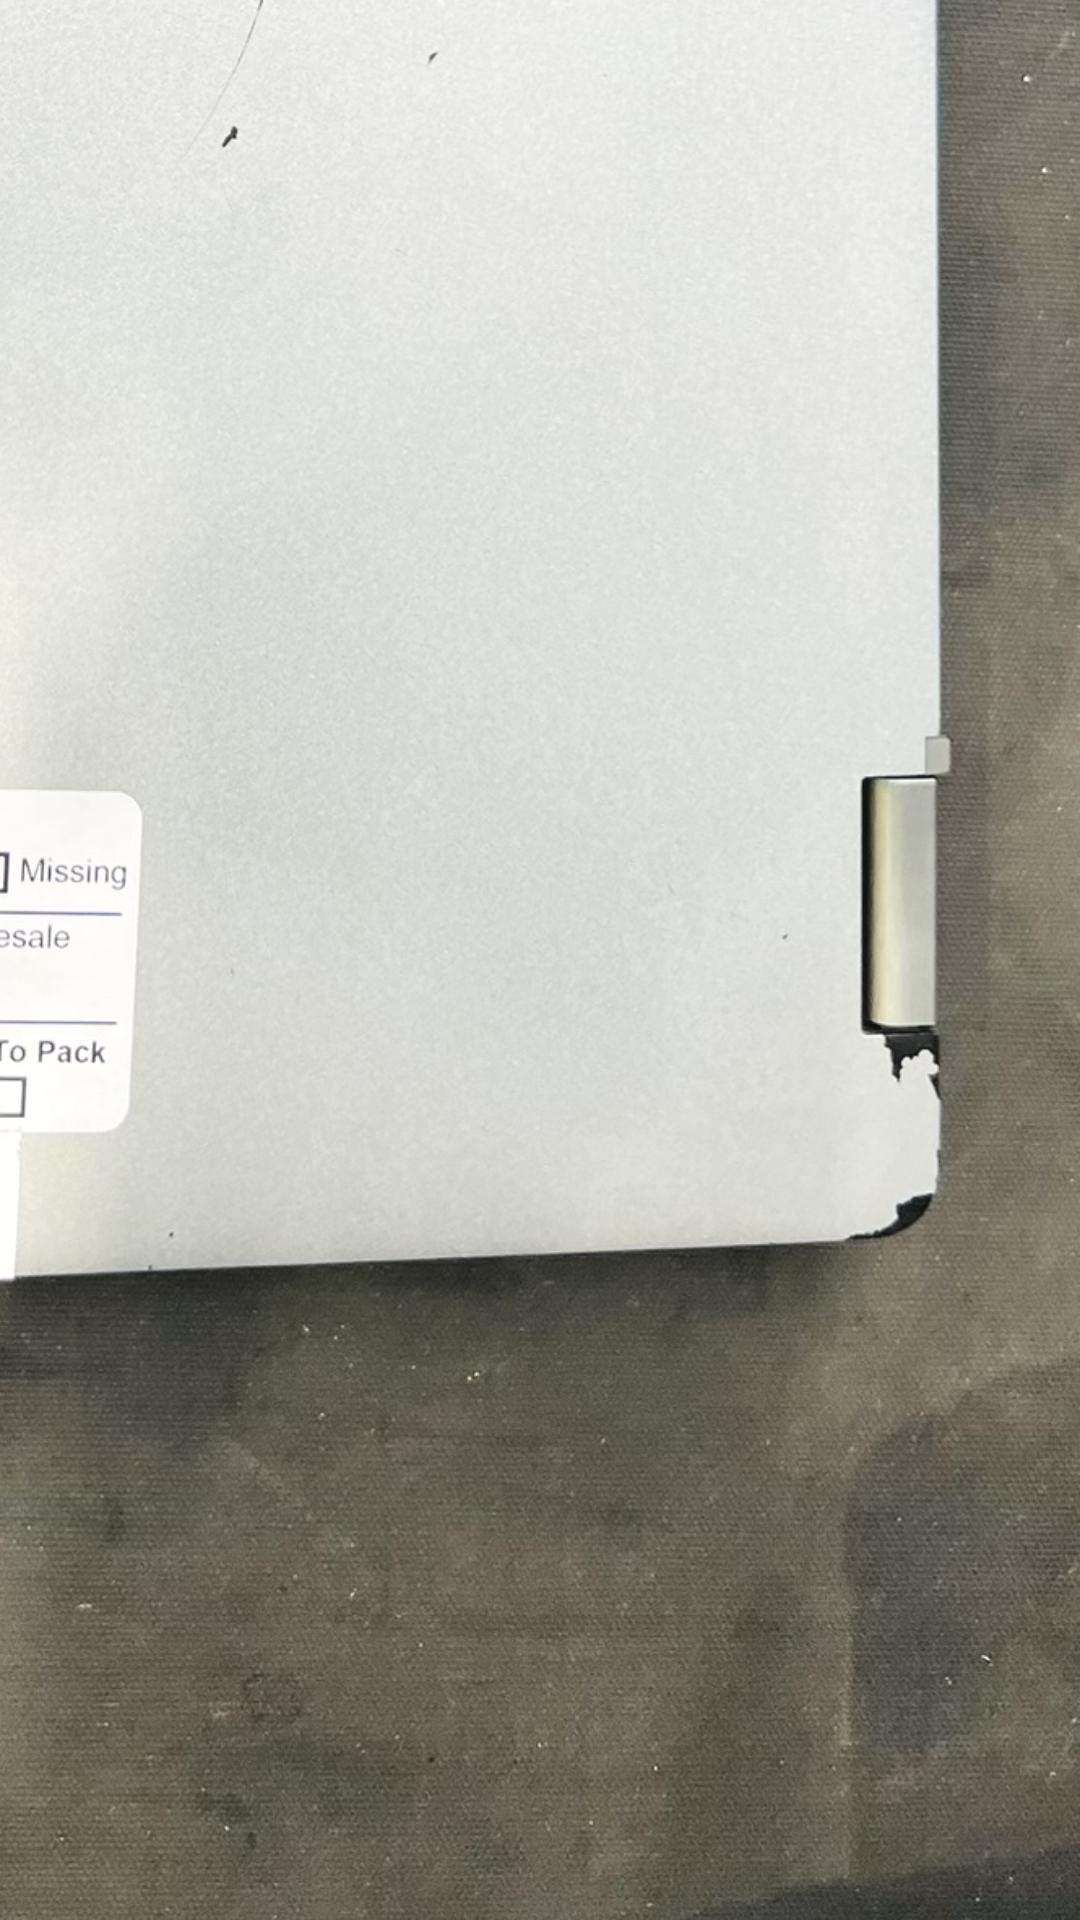chip: (839, 1191, 935, 1242), (881, 1033, 942, 1102)
scratches: (178, 0, 269, 158), (219, 123, 241, 150), (425, 47, 442, 70)
